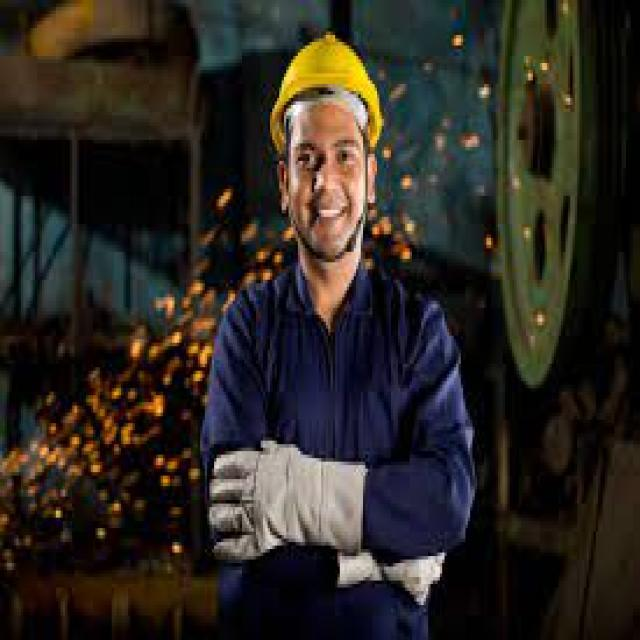safety_helmet: (265, 31, 388, 150)
